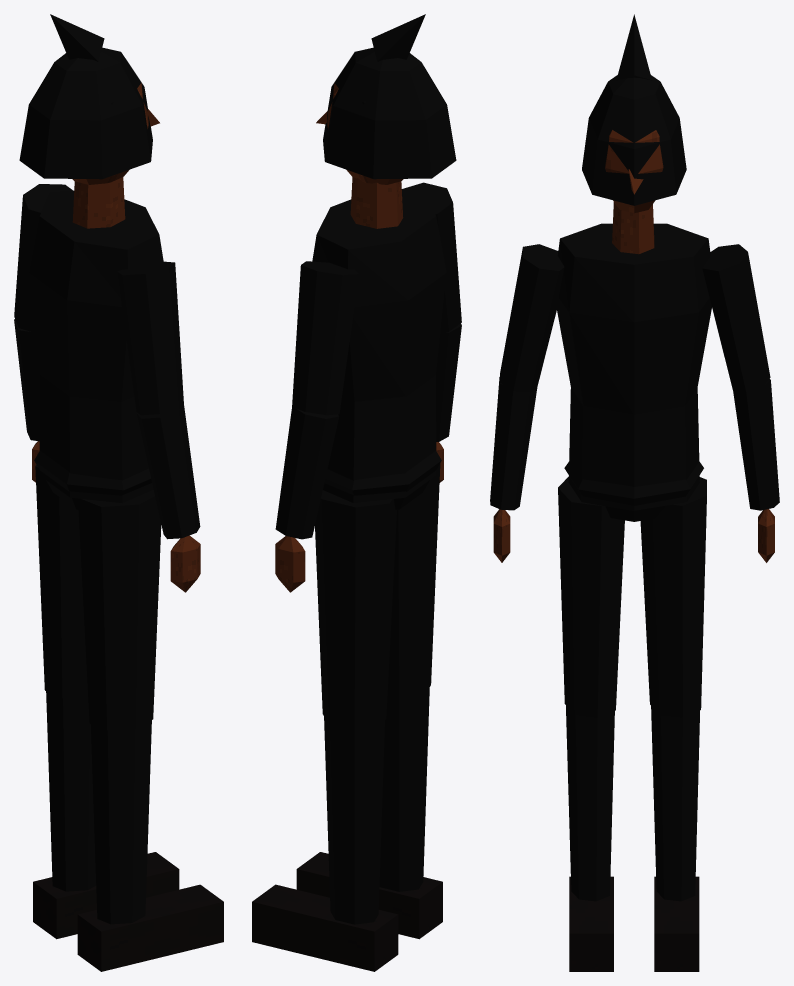
The model's file is verdugo.glb.
The picture shows the model from 3 angles, left to right: view 1: azimuth 30°, elevation 25°; view 2: azimuth 150°, elevation 25°; view 3: azimuth 270°, elevation 25°; orthographic projection. The views are drawn at different scales.
Visible parts, largest first — view 1: torso, muslo_der, capucha, pierna_der, muslo_izq, pierna_izq, brazo_der, pie_der, antebrazo_der, pie_izq, brazo_izq, pelvis (+4 smaller); view 2: torso, muslo_izq, capucha, pierna_izq, muslo_der, pierna_der, brazo_izq, pie_izq, antebrazo_izq, pie_der, brazo_der, pelvis (+4 smaller); view 3: torso, muslo_der, muslo_izq, capucha, pierna_izq, pierna_der, brazo_izq, brazo_der, antebrazo_izq, antebrazo_der, pie_izq, pie_der (+5 smaller).
Part boxes in pixels (x1=…): torso: x1=29, y1=190, x2=163, y2=503; muslo_der: x1=78, y1=490, x2=161, y2=730; capucha: x1=19, y1=14, x2=152, y2=179; pierna_der: x1=91, y1=720, x2=151, y2=924; muslo_izq: x1=35, y1=465, x2=87, y2=698; pierna_izq: x1=46, y1=691, x2=96, y2=891; brazo_der: x1=117, y1=261, x2=183, y2=415; pie_der: x1=77, y1=884, x2=223, y2=971; antebrazo_der: x1=136, y1=405, x2=200, y2=539; pie_izq: x1=33, y1=852, x2=179, y2=939; brazo_izq: x1=14, y1=184, x2=72, y2=332; pelvis: x1=34, y1=451, x2=151, y2=509; torso: x1=312, y1=190, x2=446, y2=503; muslo_izq: x1=315, y1=490, x2=396, y2=730; capucha: x1=323, y1=14, x2=456, y2=179; pierna_izq: x1=324, y1=716, x2=384, y2=924; muslo_der: x1=387, y1=463, x2=440, y2=698; pierna_der: x1=379, y1=688, x2=429, y2=891; brazo_izq: x1=292, y1=261, x2=358, y2=415; pie_izq: x1=252, y1=884, x2=398, y2=971; antebrazo_izq: x1=275, y1=406, x2=339, y2=539; pie_der: x1=296, y1=852, x2=442, y2=939; brazo_der: x1=401, y1=182, x2=461, y2=332; pelvis: x1=324, y1=451, x2=441, y2=509; torso: x1=557, y1=223, x2=711, y2=510; muslo_der: x1=558, y1=476, x2=624, y2=717; muslo_izq: x1=640, y1=477, x2=706, y2=717; capucha: x1=582, y1=14, x2=686, y2=205; pierna_izq: x1=651, y1=706, x2=699, y2=901; pierna_der: x1=566, y1=705, x2=614, y2=901; brazo_izq: x1=702, y1=244, x2=770, y2=392; brazo_der: x1=500, y1=244, x2=564, y2=392; antebrazo_izq: x1=733, y1=379, x2=779, y2=510; antebrazo_der: x1=490, y1=377, x2=537, y2=510; pie_izq: x1=654, y1=876, x2=699, y2=971; pie_der: x1=569, y1=876, x2=613, y2=971.
Bounding box in the file's own units: 0.3 × 1.7 × 0.5.
1 material, 1 textured.
